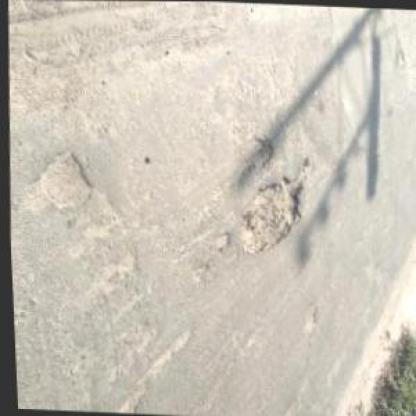pothole: (232, 157, 314, 260), (18, 147, 94, 218), (232, 134, 273, 180), (107, 384, 147, 413), (297, 301, 318, 335)
